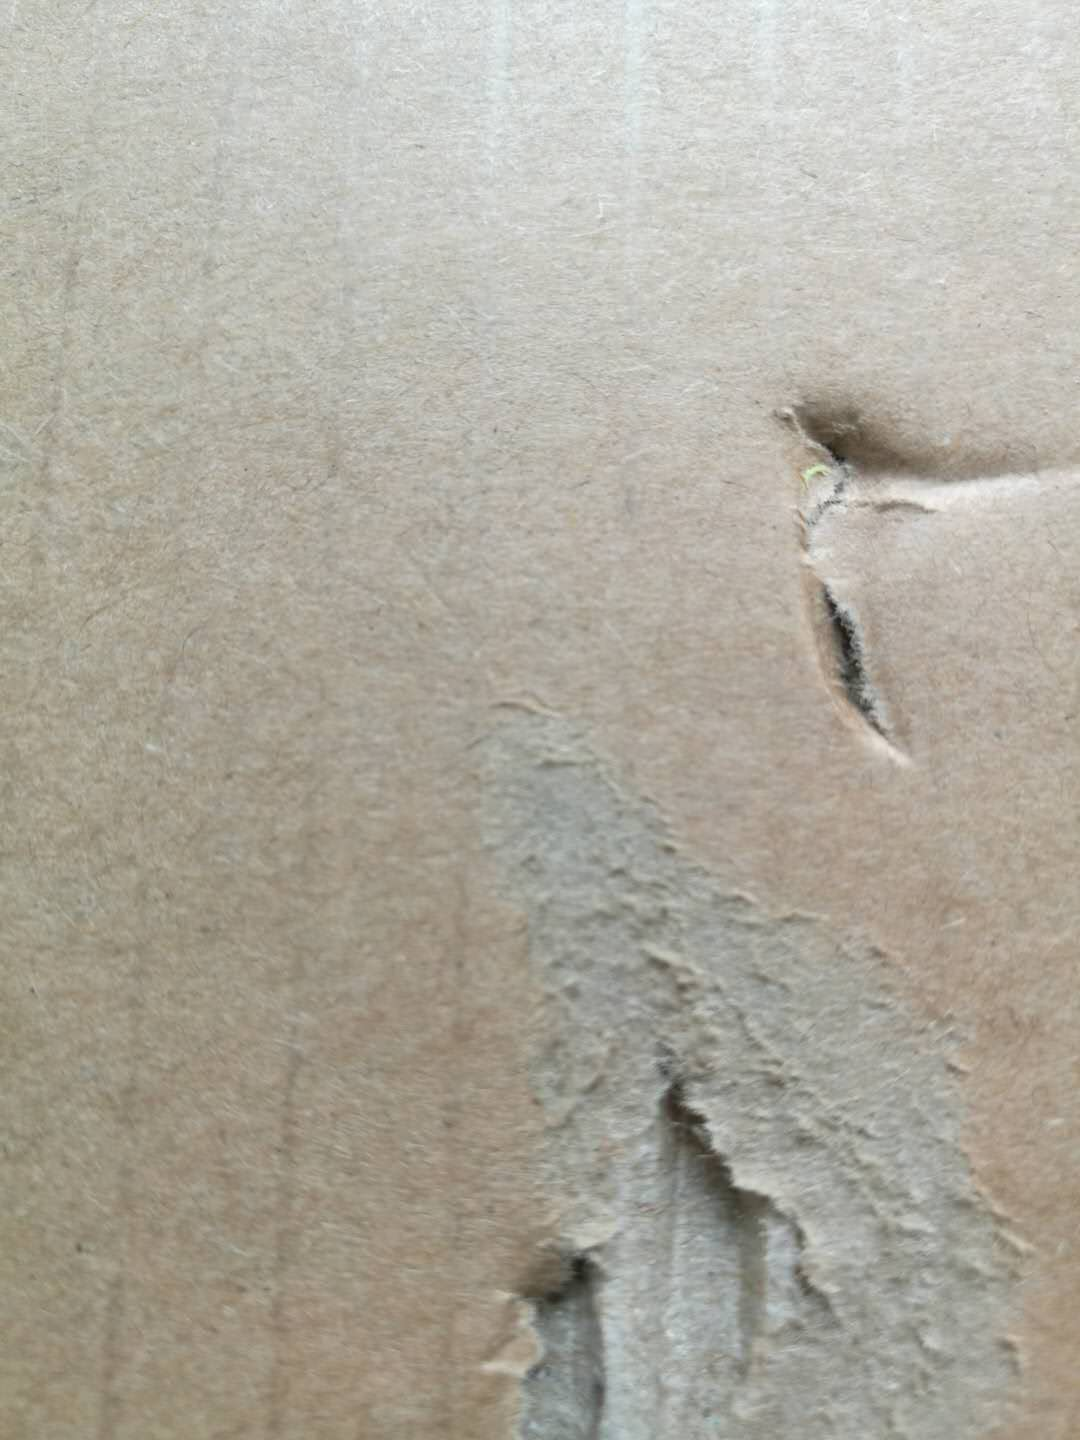defect: (427, 652, 1054, 1439), (751, 355, 1080, 785)
